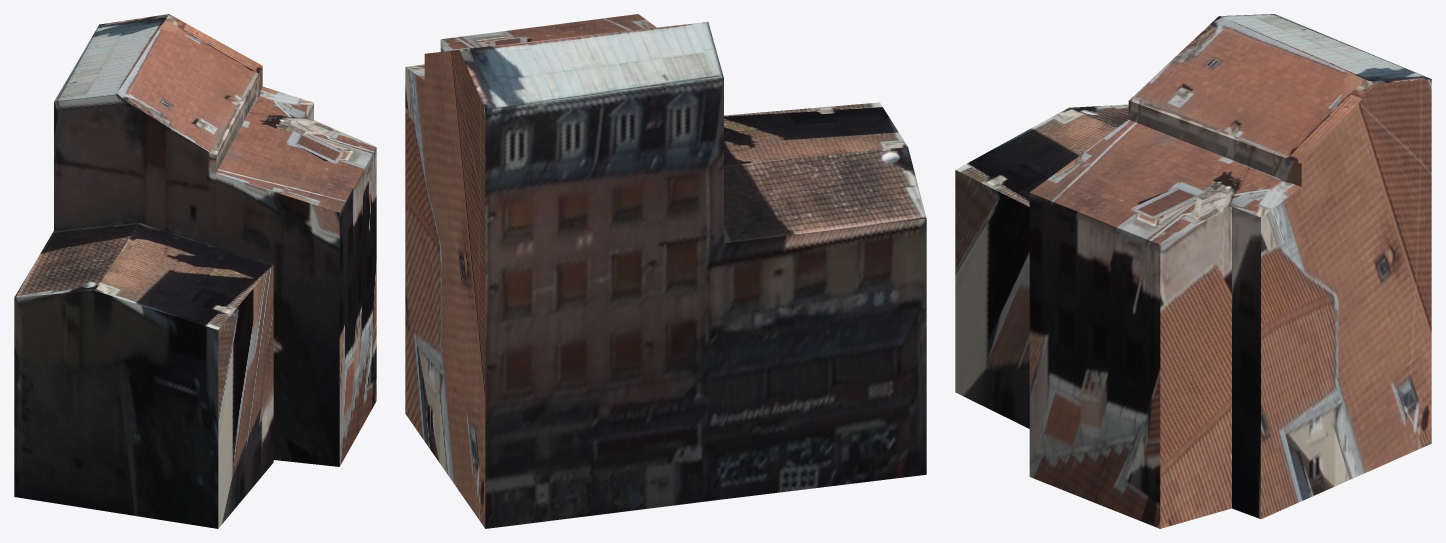
3 renders of one model, left to right at view 1: azimuth 30°, elevation 25°; view 2: azimuth 150°, elevation 25°; view 3: azimuth 270°, elevation 25°, orthographic. The views are drawn at different scales.
Parts seen in each view (by area): view 1: Z_UP; view 2: Z_UP; view 3: Z_UP.
Part boxes in pixels (bbox=[...]): Z_UP: bbox=[14, 14, 376, 528]; Z_UP: bbox=[405, 14, 926, 528]; Z_UP: bbox=[955, 14, 1431, 528].
Bounding box in the file's own units: 23.37 × 20.74 × 23.27.
2 materials, 1 textured.
